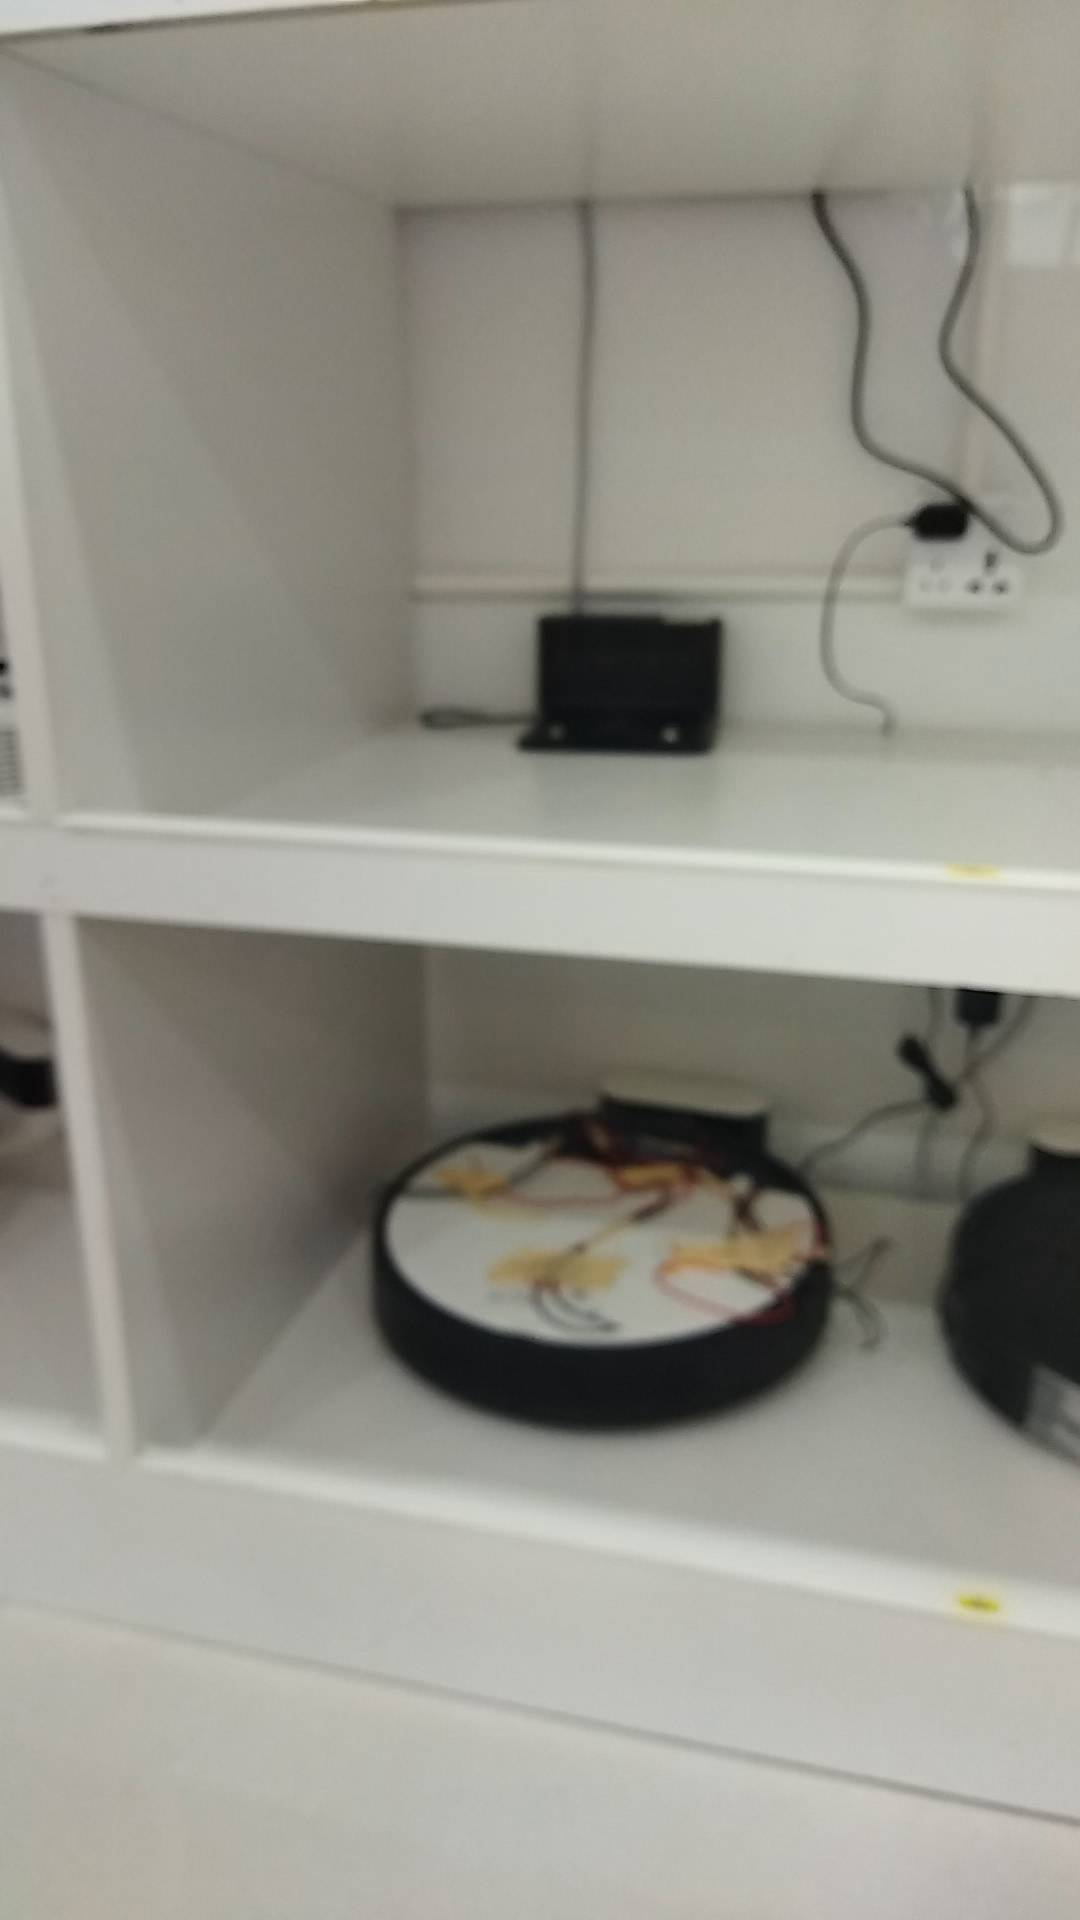recharge seat: (509, 609, 727, 752), (591, 1069, 786, 1159)
